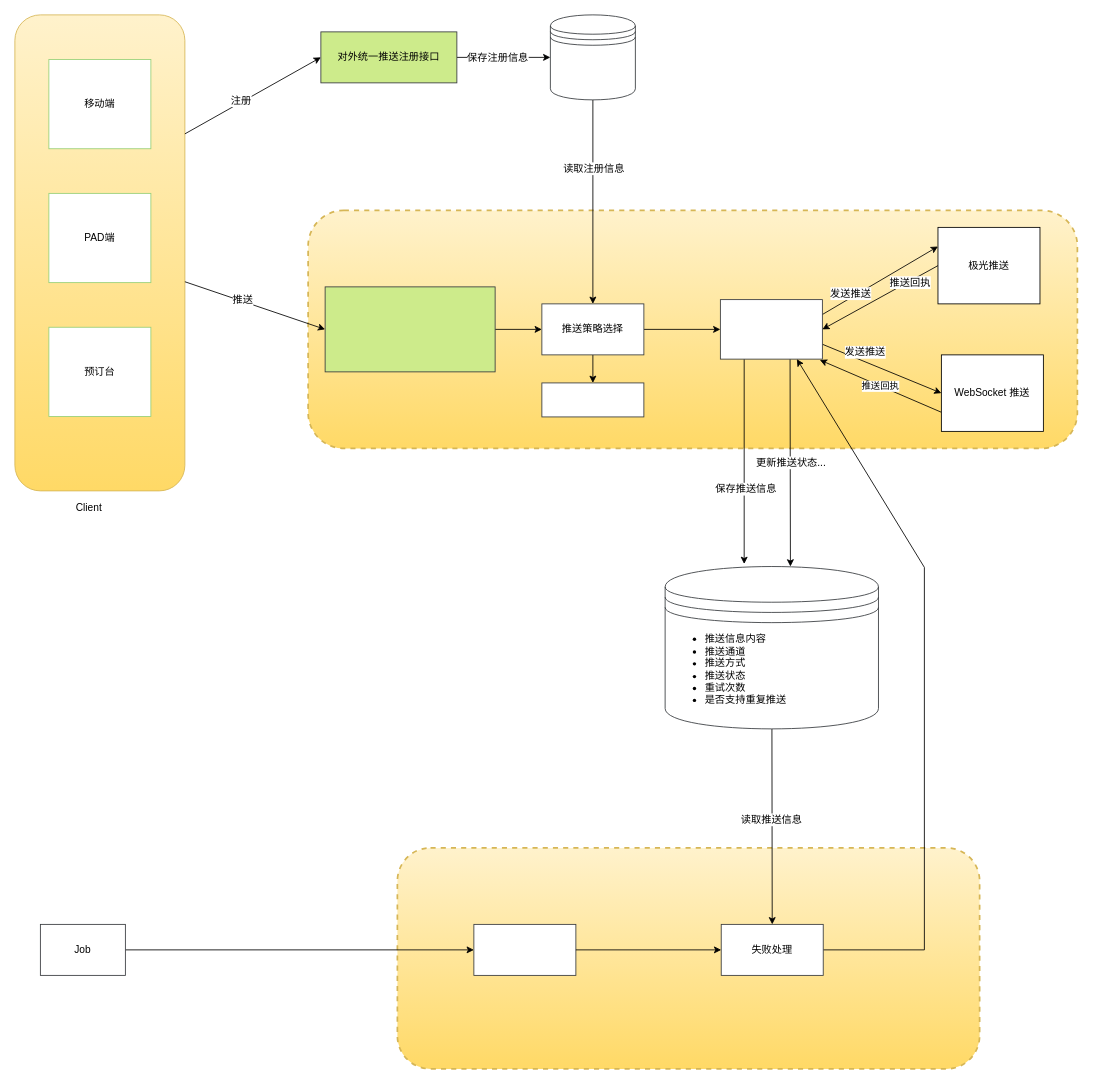
Image size: 1093x1085. Some labels were removed from this diagram. The centre of each missing label's shape, as x and y in pixels:
"对外 Job 接口" belongs at point (524, 949).
"对外统一推送接口" belongs at point (409, 329).
"推送处理器" belongs at point (771, 329).
"极光推送/WebSocket推送" belongs at point (592, 399).
"酒店信息 设备类型 手机号" belongs at point (592, 57).
